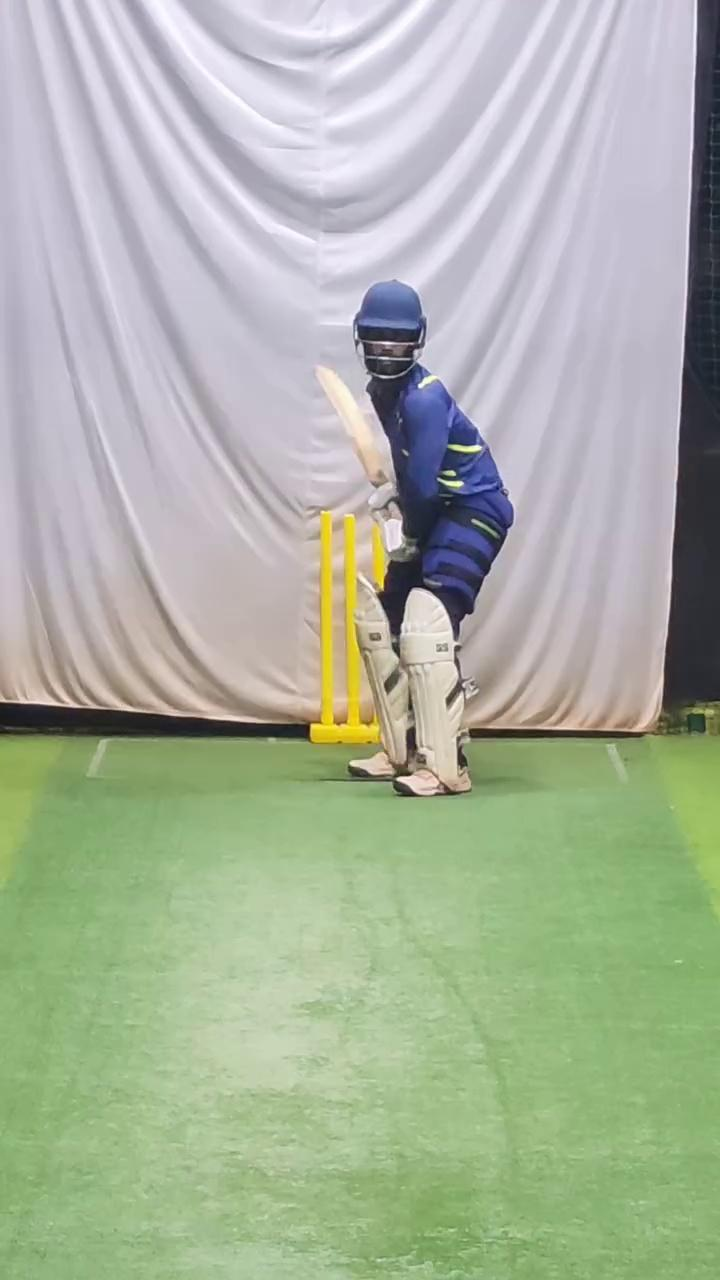bat: (310, 354, 393, 494)
